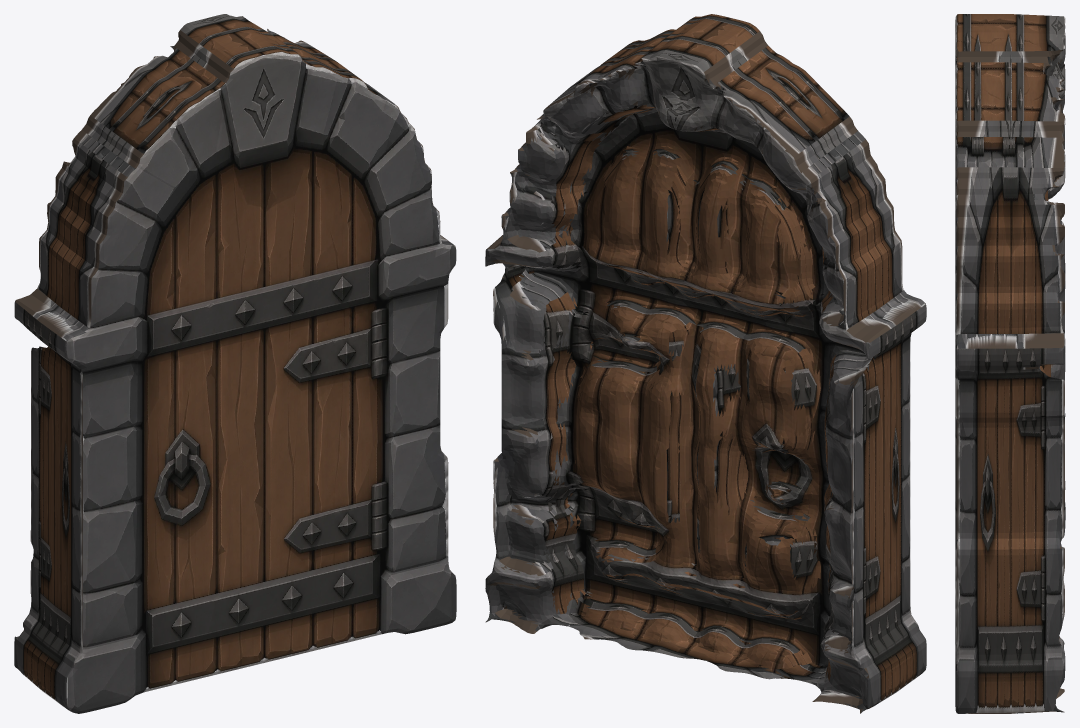
Rendered from SM_Dungeon_Door_A.glb.
The picture shows the model from 3 angles, left to right: view 1: azimuth 30°, elevation 25°; view 2: azimuth 150°, elevation 25°; view 3: azimuth 270°, elevation 25°; orthographic projection. The views are drawn at different scales.
Parts seen in each view (by area): view 1: SM_Dungeon_Door_A_Raw; view 2: SM_Dungeon_Door_A_Raw; view 3: SM_Dungeon_Door_A_Raw.
Part boxes in pixels (left/top/right/bottom): SM_Dungeon_Door_A_Raw: left=14, top=14, right=456, bottom=713; SM_Dungeon_Door_A_Raw: left=485, top=14, right=926, bottom=713; SM_Dungeon_Door_A_Raw: left=955, top=14, right=1065, bottom=713.
Bounding box in the file's own units: 2 × 3 × 0.5.
Materials: 1 (1 with a texture image).
